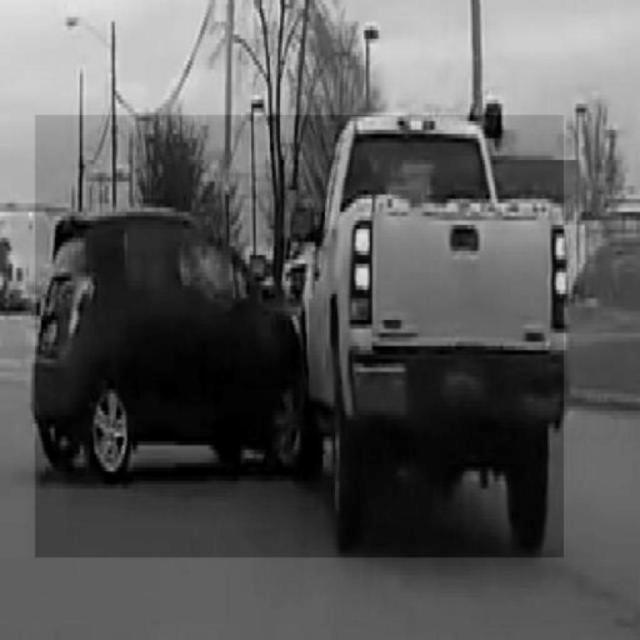accident: (35, 115, 563, 557)
